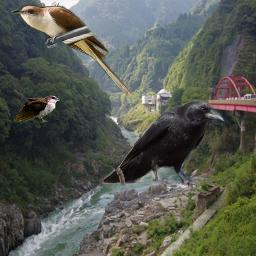Crow: (97, 99, 225, 195)
Cuckoo: (11, 4, 135, 99), (14, 77, 62, 124)
